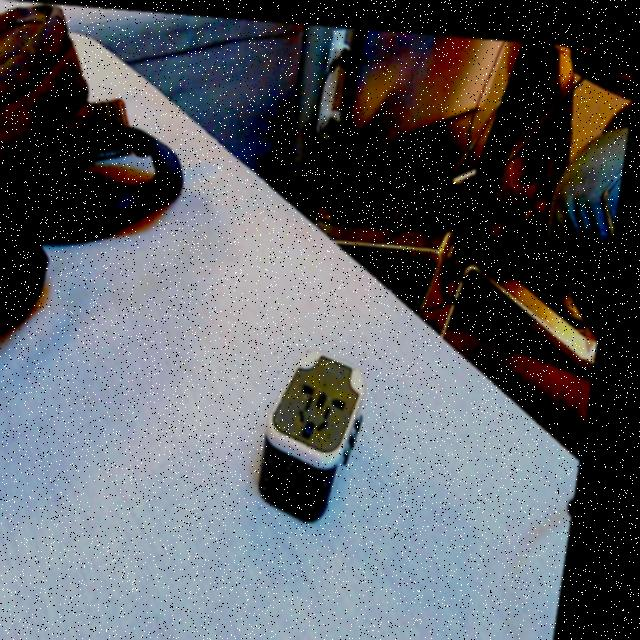adapter: (266, 339, 383, 517)
